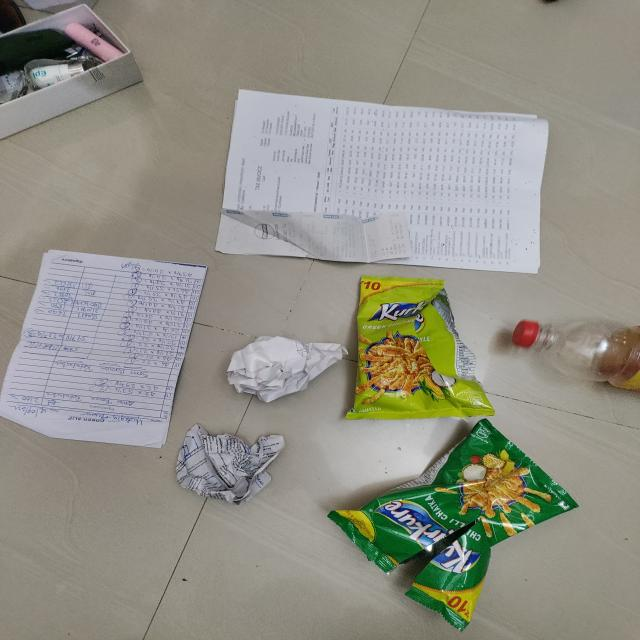paper: (213, 52, 593, 269), (18, 217, 204, 470), (179, 425, 299, 514), (227, 317, 344, 394)
plastic: (318, 436, 584, 618), (332, 264, 503, 428), (487, 319, 640, 406)
